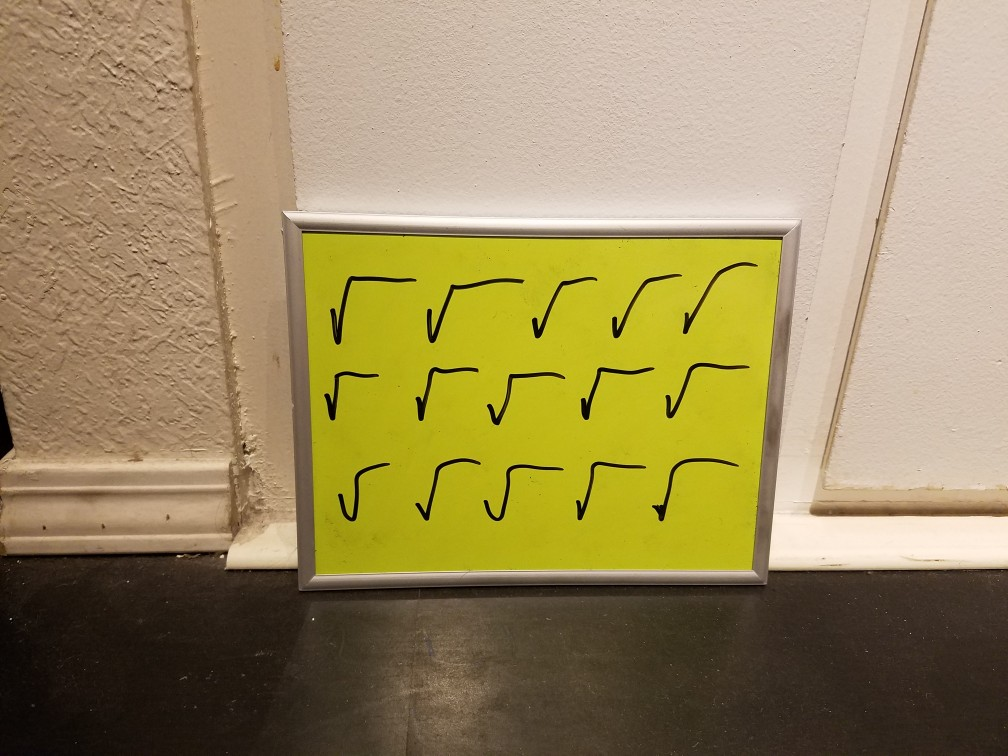sqrt: (650, 453, 748, 538), (318, 266, 417, 350), (422, 266, 526, 344), (679, 251, 765, 344), (662, 353, 756, 435), (603, 253, 682, 345), (482, 454, 566, 536), (568, 447, 652, 529), (405, 357, 487, 438), (483, 359, 565, 439), (575, 358, 659, 434), (406, 450, 481, 534), (330, 451, 401, 539), (526, 264, 600, 347), (322, 364, 382, 436)
